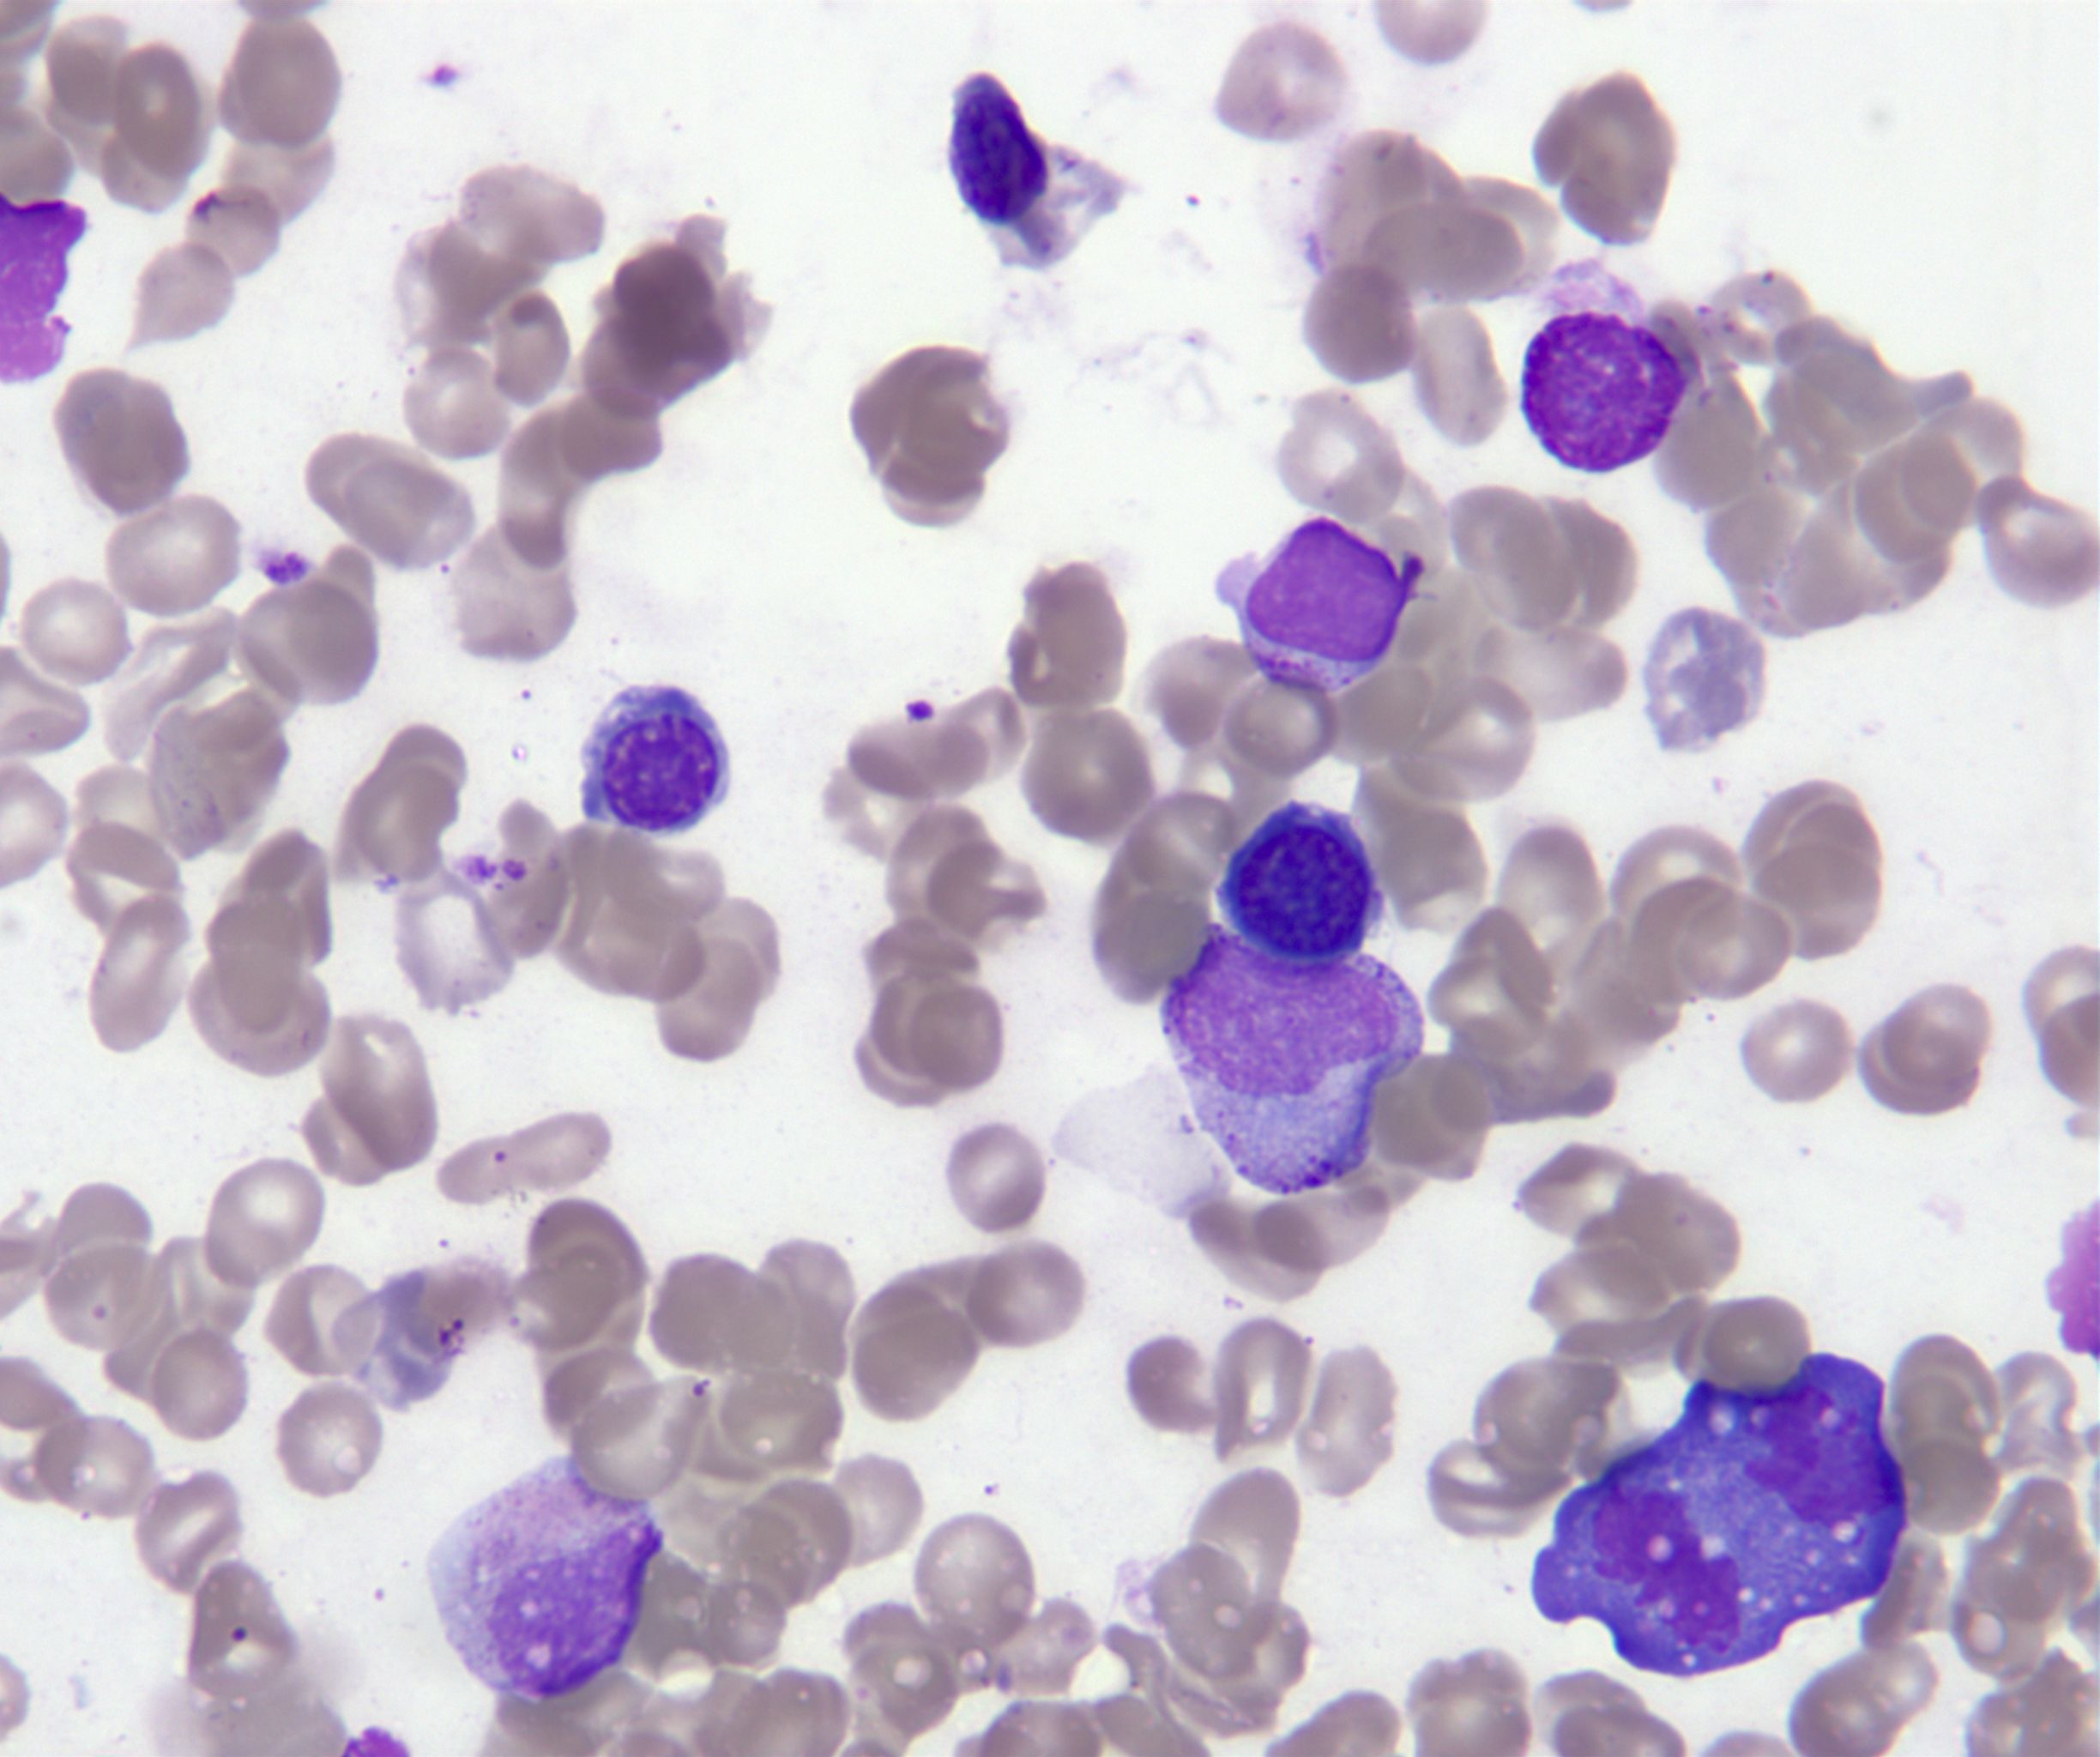23: (1216, 799, 1387, 965), (581, 687, 734, 836)
3: (1162, 928, 1423, 1193)
32: (1214, 518, 1425, 691), (949, 73, 1130, 269)
4: (431, 1459, 663, 1701)
x: (1530, 1352, 1905, 1675), (1523, 258, 1690, 473)
